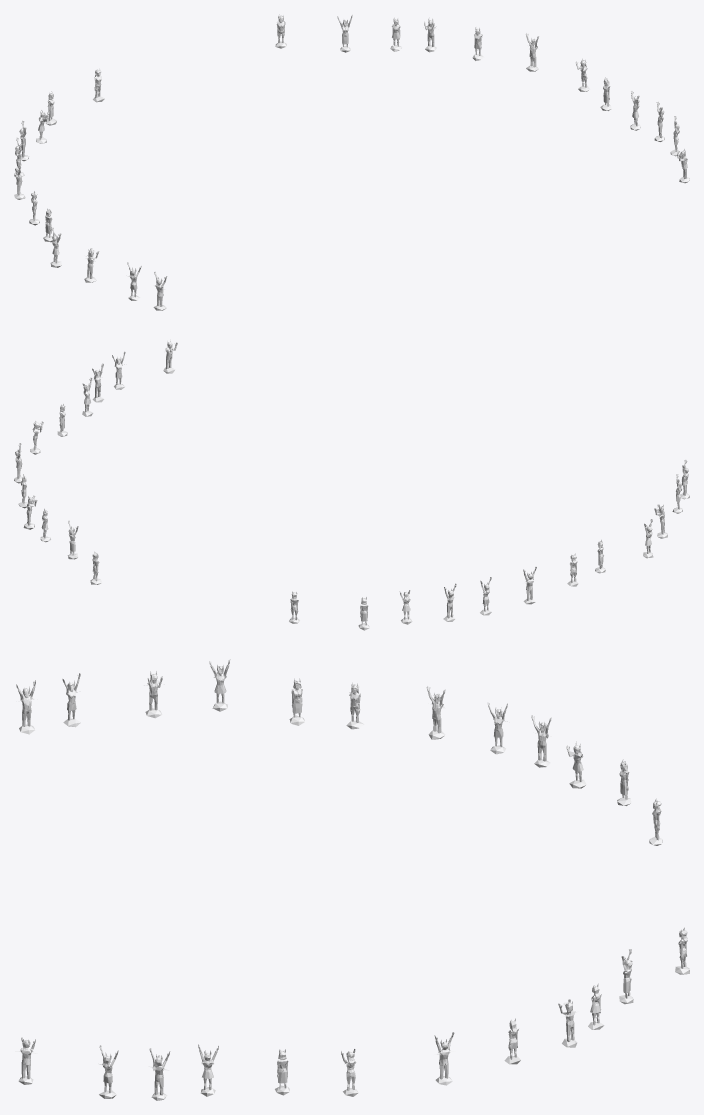
The model's file is Statues_0.obj.
3 views of the same model, one above another, from view 1: azimuth 30°, elevation 25°; view 2: azimuth 150°, elevation 25°; view 3: azimuth 270°, elevation 25° (orthographic). The views are drawn at different scales.
Visible parts, largest first — view 1: Statues_0; view 2: Statues_0; view 3: Statues_0.
Boxes of the visible parts, <box> form: Statues_0: <box>14,14,689,310</box>; Statues_0: <box>14,339,689,630</box>; Statues_0: <box>15,659,689,1100</box>.
Size of the model in its own units: 40.75 by 2.43 by 29.4.
1 material, 1 textured.
